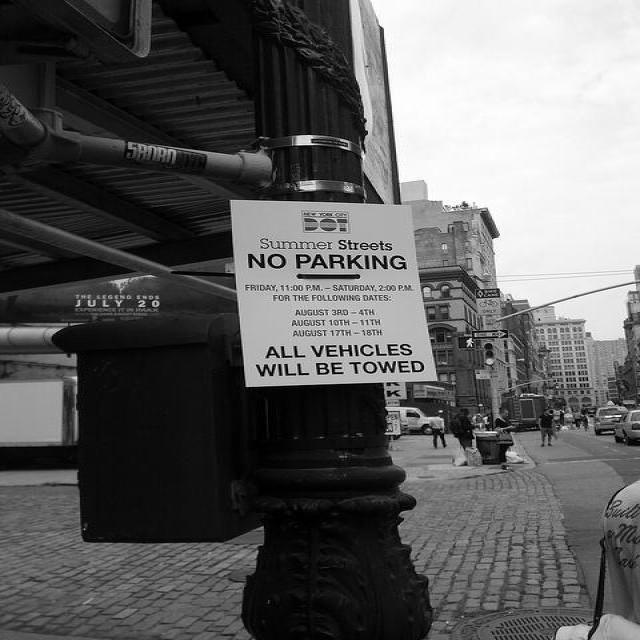vehicle: (387, 407, 435, 435), (593, 407, 629, 435), (613, 410, 639, 446), (564, 413, 576, 423), (587, 405, 595, 416)
